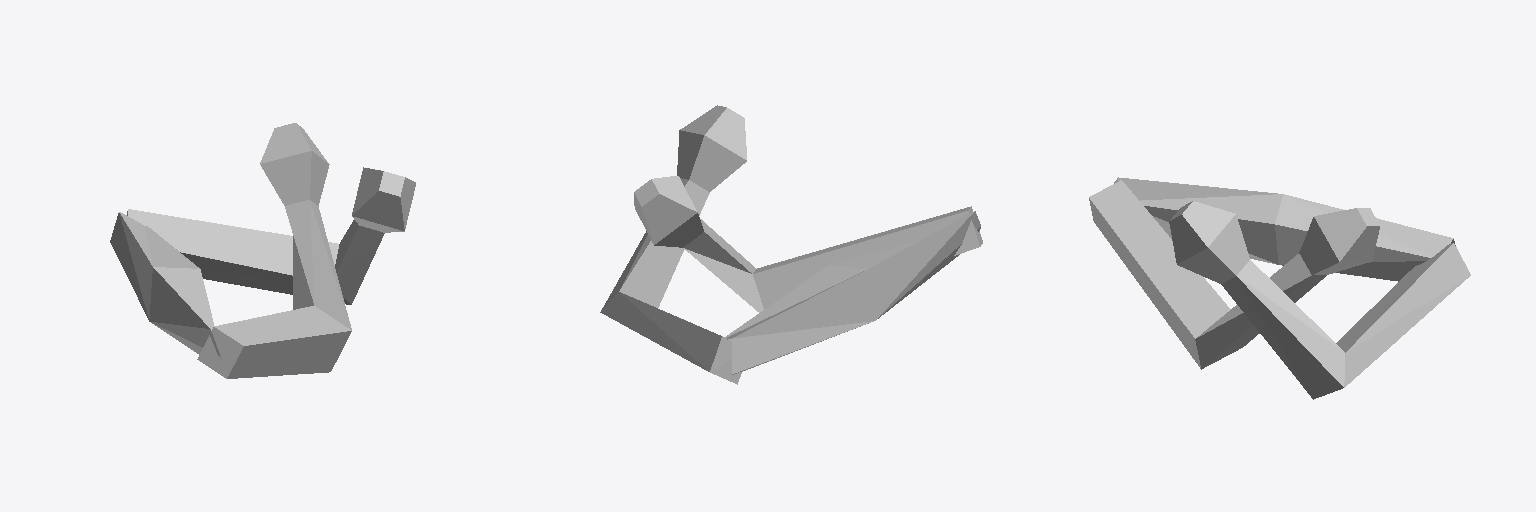
The model's file is handsBlock_000039.obj.
3 views of the same model, side by side, from view 1: azimuth 30°, elevation 25°; view 2: azimuth 150°, elevation 25°; view 3: azimuth 270°, elevation 25° (orthographic).
Visible parts, largest first — view 1: Cube; view 2: Cube; view 3: Cube.
Part boxes in pixels (bbox=[...]): Cube: bbox=[110, 123, 415, 378]; Cube: bbox=[600, 105, 982, 384]; Cube: bbox=[1089, 177, 1470, 399].
Bounding box in the file's own units: 4.16 × 2.82 × 5.08.